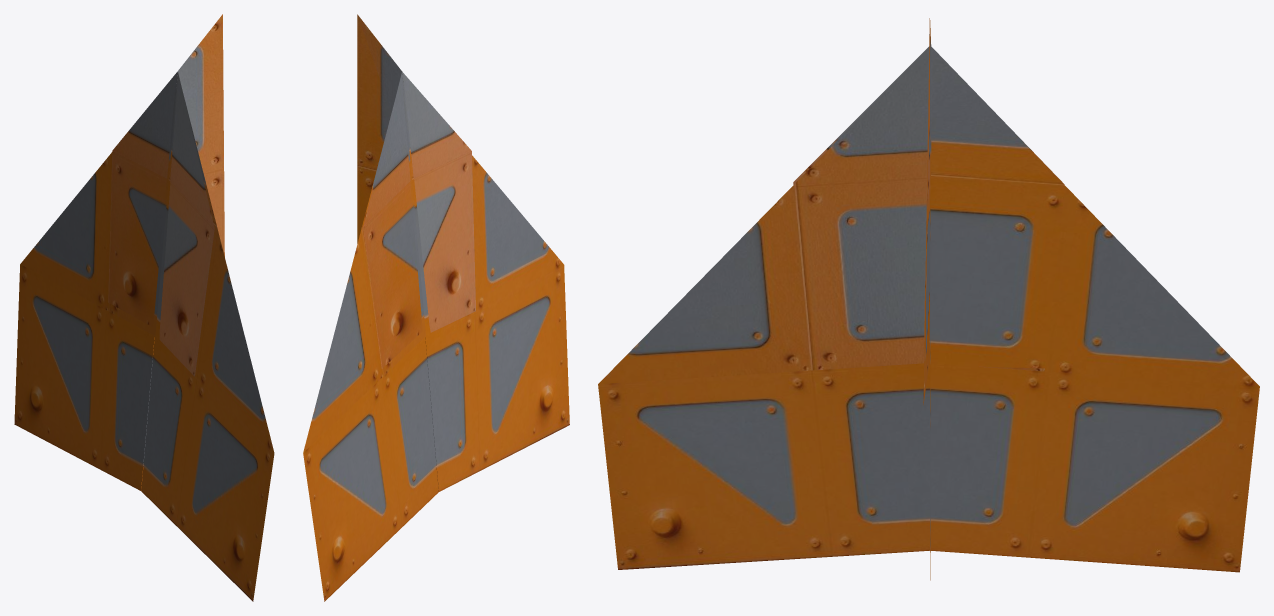
3 views of the same model, side by side, from view 1: azimuth 30°, elevation 25°; view 2: azimuth 150°, elevation 25°; view 3: azimuth 270°, elevation 25° (orthographic). The views are drawn at different scales.
Parts seen in each view (by area): view 1: Origami_Model_14.001; view 2: Origami_Model_14.001; view 3: Origami_Model_14.001.
Part boxes in pixels (x1,y1,x2,y2): Origami_Model_14.001: (14, 14, 274, 601); Origami_Model_14.001: (303, 14, 569, 601); Origami_Model_14.001: (598, 18, 1259, 580).
Size of the model in its own units: 0.0312 by 0.1565 by 0.1531.
Materials: 1 (1 with a texture image).
